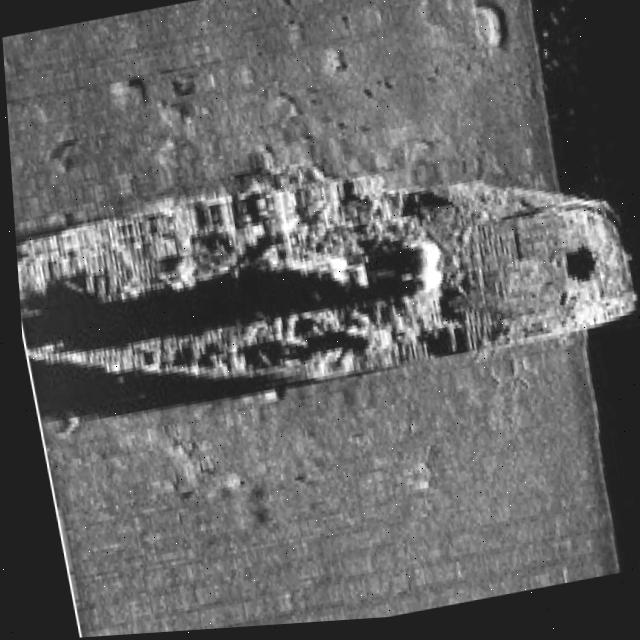shipwreck: (8, 124, 640, 448)
